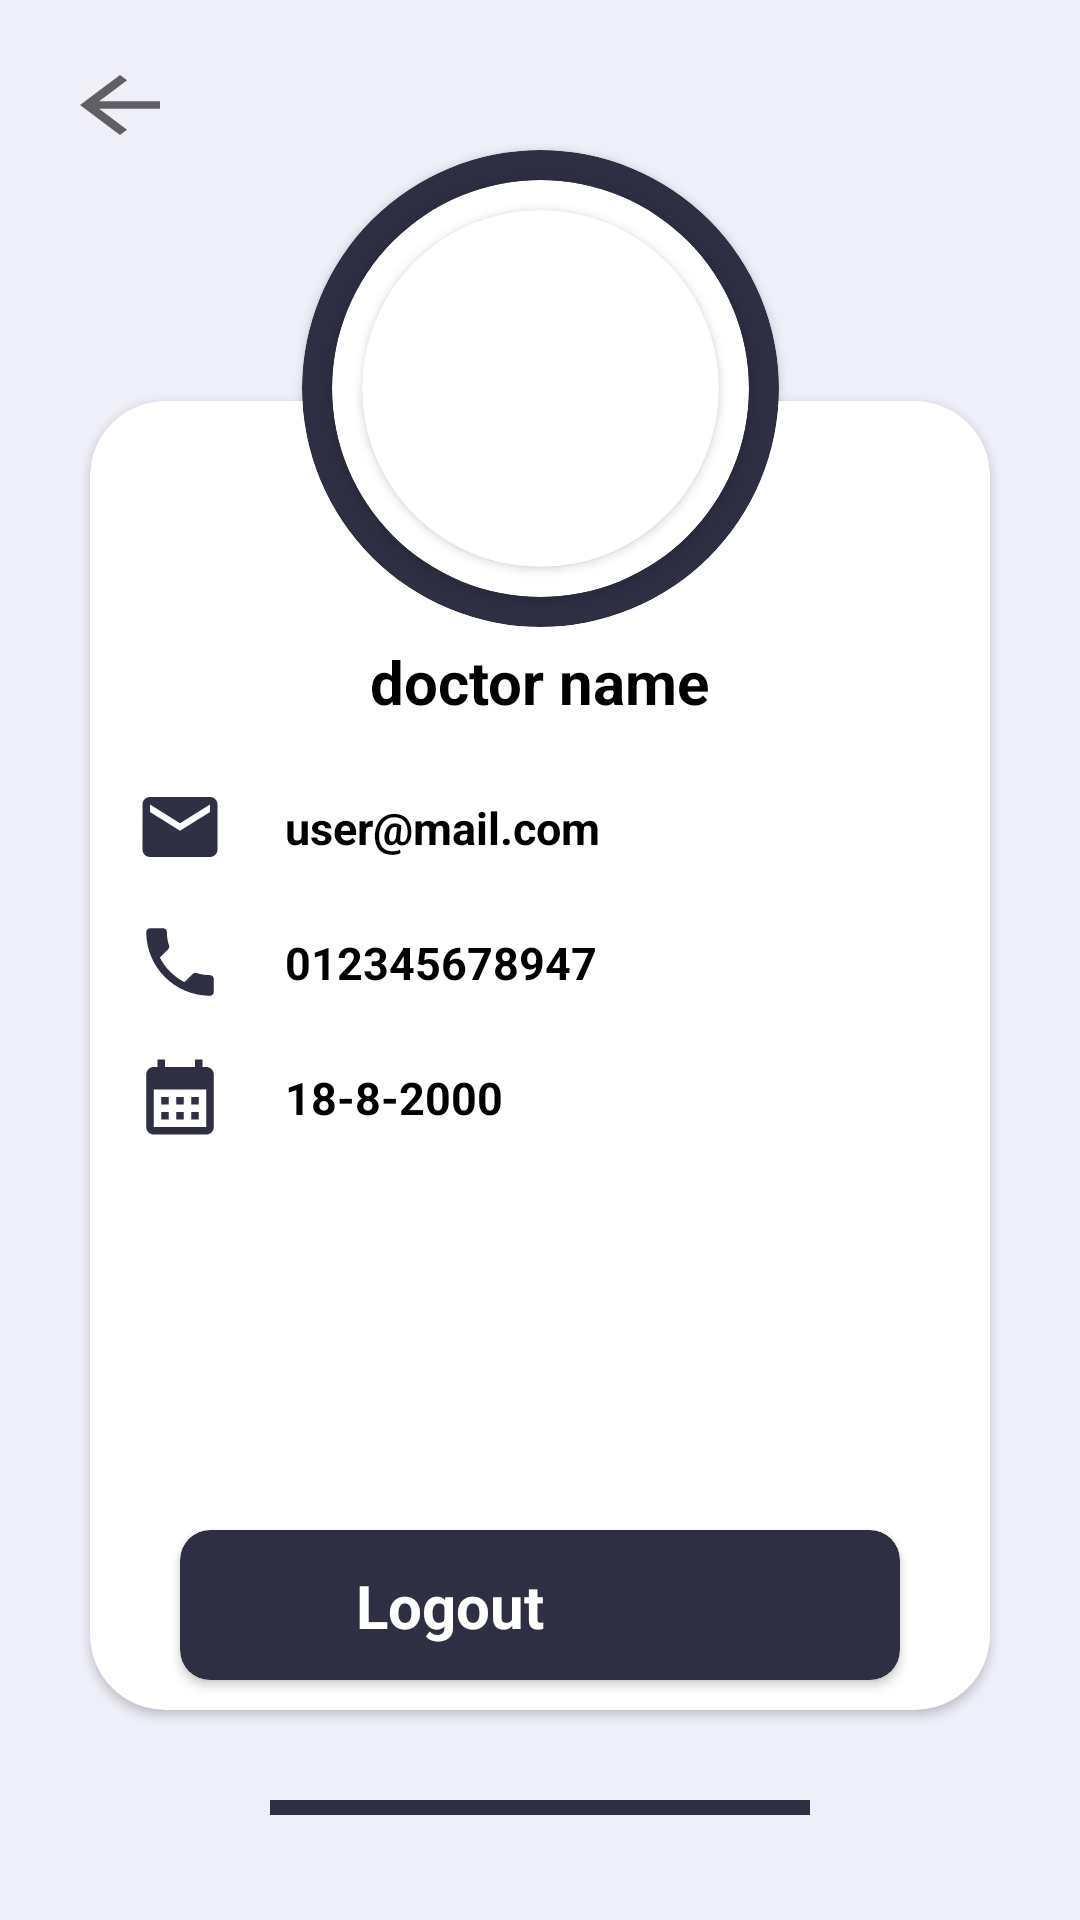

Point at icon controls on the screen. Image size 1080px×1920px, points as (x,y).
arrow back: (120,105)
calendar month: (180,1097)
email: (180,827)
phone: (180,962)
